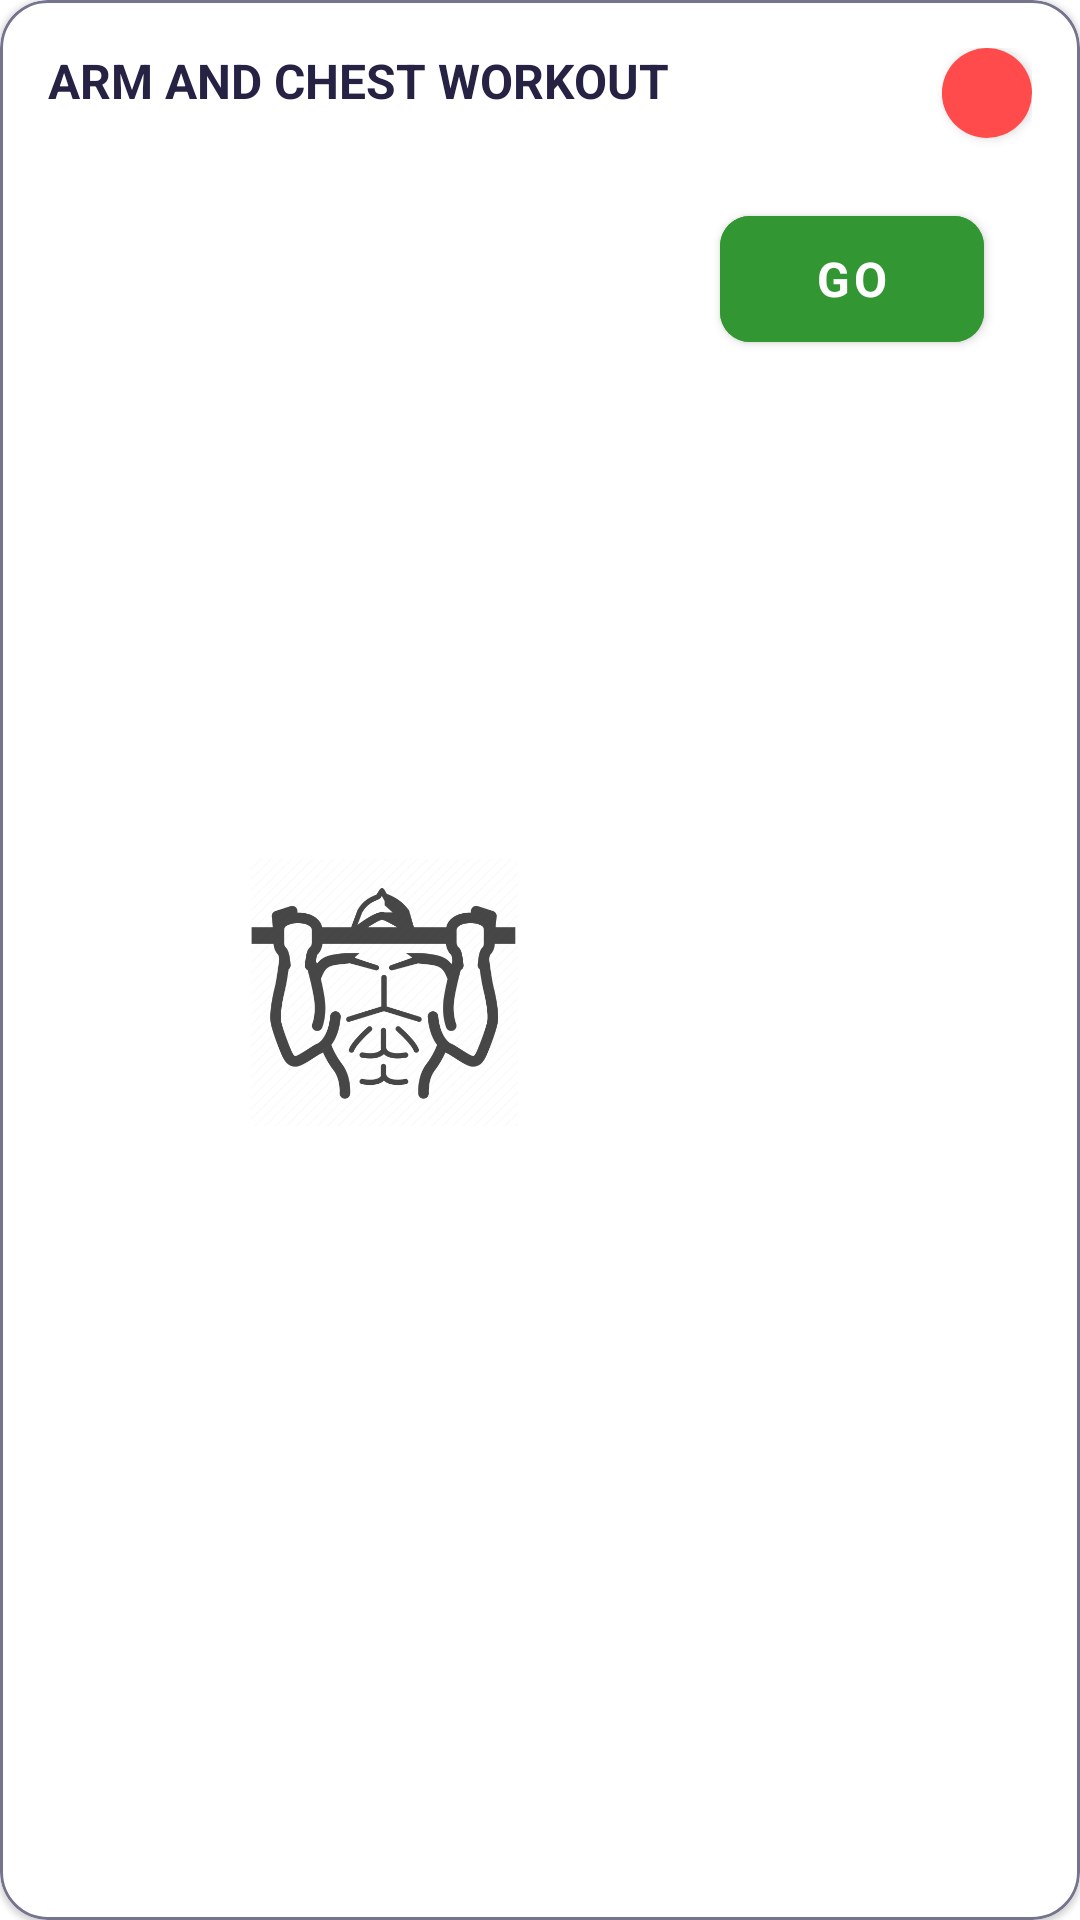

Icons on this 1080w x 1920h Android screen, each with its box as (x1, y1, x2, y2):
arm and chest workout: (251, 888, 516, 1099)
